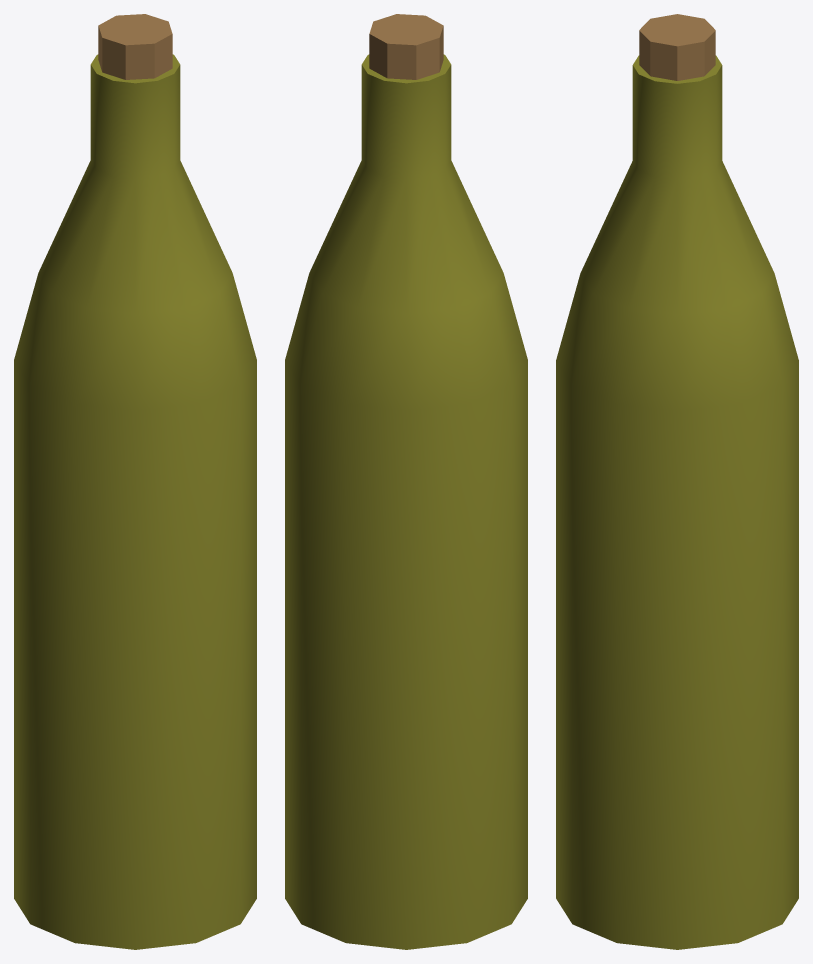
File: tpl_dispensa_bottiglia_olio.glb
3 views of the same model, side by side, from view 1: azimuth 30°, elevation 25°; view 2: azimuth 150°, elevation 25°; view 3: azimuth 270°, elevation 25° (orthographic).
Visible parts, largest first — view 1: tpl_dispensa_bottiglia_olio; view 2: tpl_dispensa_bottiglia_olio; view 3: tpl_dispensa_bottiglia_olio.
Boxes of the visible parts, box(x1,y1,x2,y2) form: tpl_dispensa_bottiglia_olio: box(14, 14, 256, 949); tpl_dispensa_bottiglia_olio: box(285, 14, 527, 949); tpl_dispensa_bottiglia_olio: box(556, 14, 798, 949).
Size of the model in its own units: 0.076 by 0.3 by 0.076.
